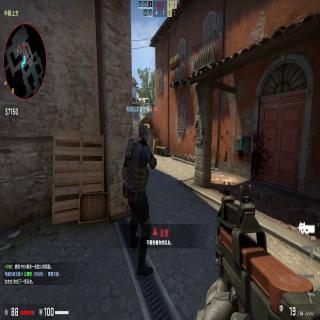CT-Body: (124, 123, 156, 222)
CT-Head: (138, 124, 148, 142)
